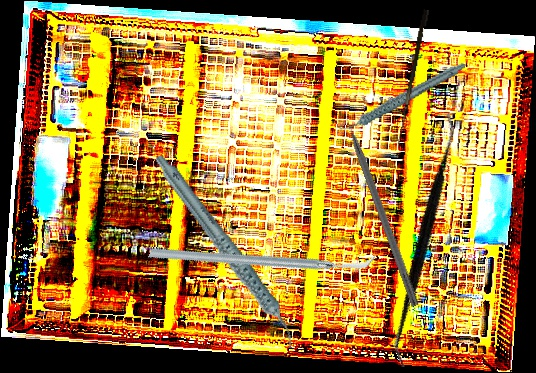Chopper: (147, 162, 377, 350)
Handpiece: (151, 134, 299, 370), (329, 61, 474, 133)
Hook Surgical: (339, 105, 422, 307), (397, 8, 430, 146)
Spatula Surgical: (328, 112, 525, 368)
